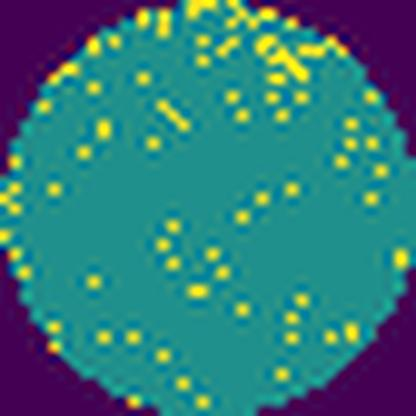Loc: (254, 31, 310, 82)
